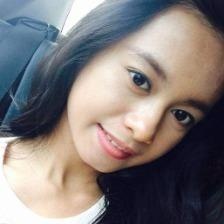Non hijab: (4, 0, 223, 136)
